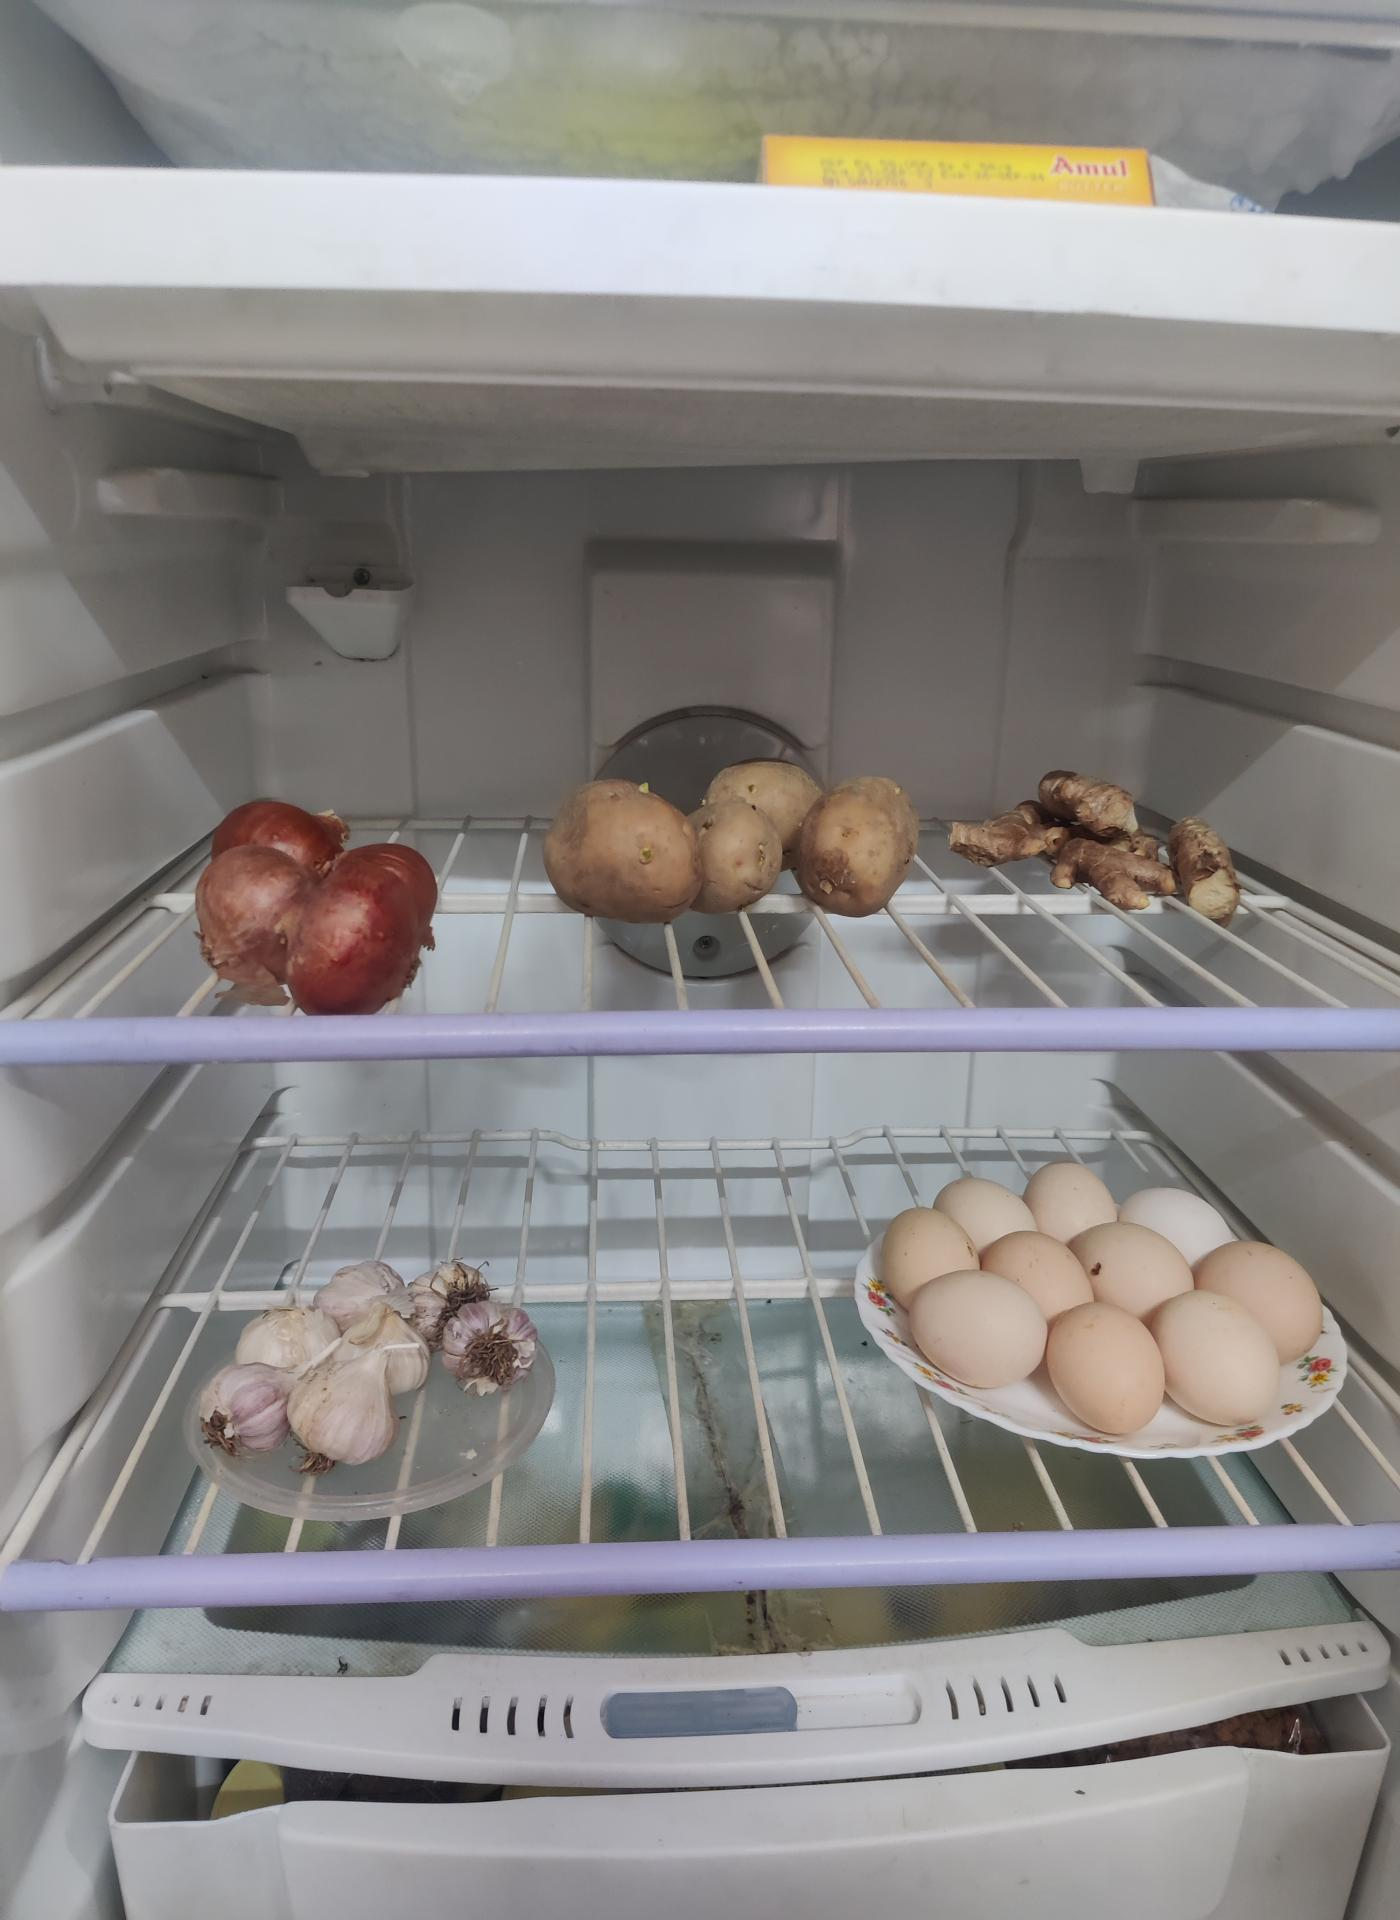egg: (881, 1152, 1342, 1433)
garlic: (201, 1267, 522, 1476)
ginger: (954, 771, 1246, 917)
onion: (197, 793, 441, 1006)
potato: (543, 757, 924, 921)
